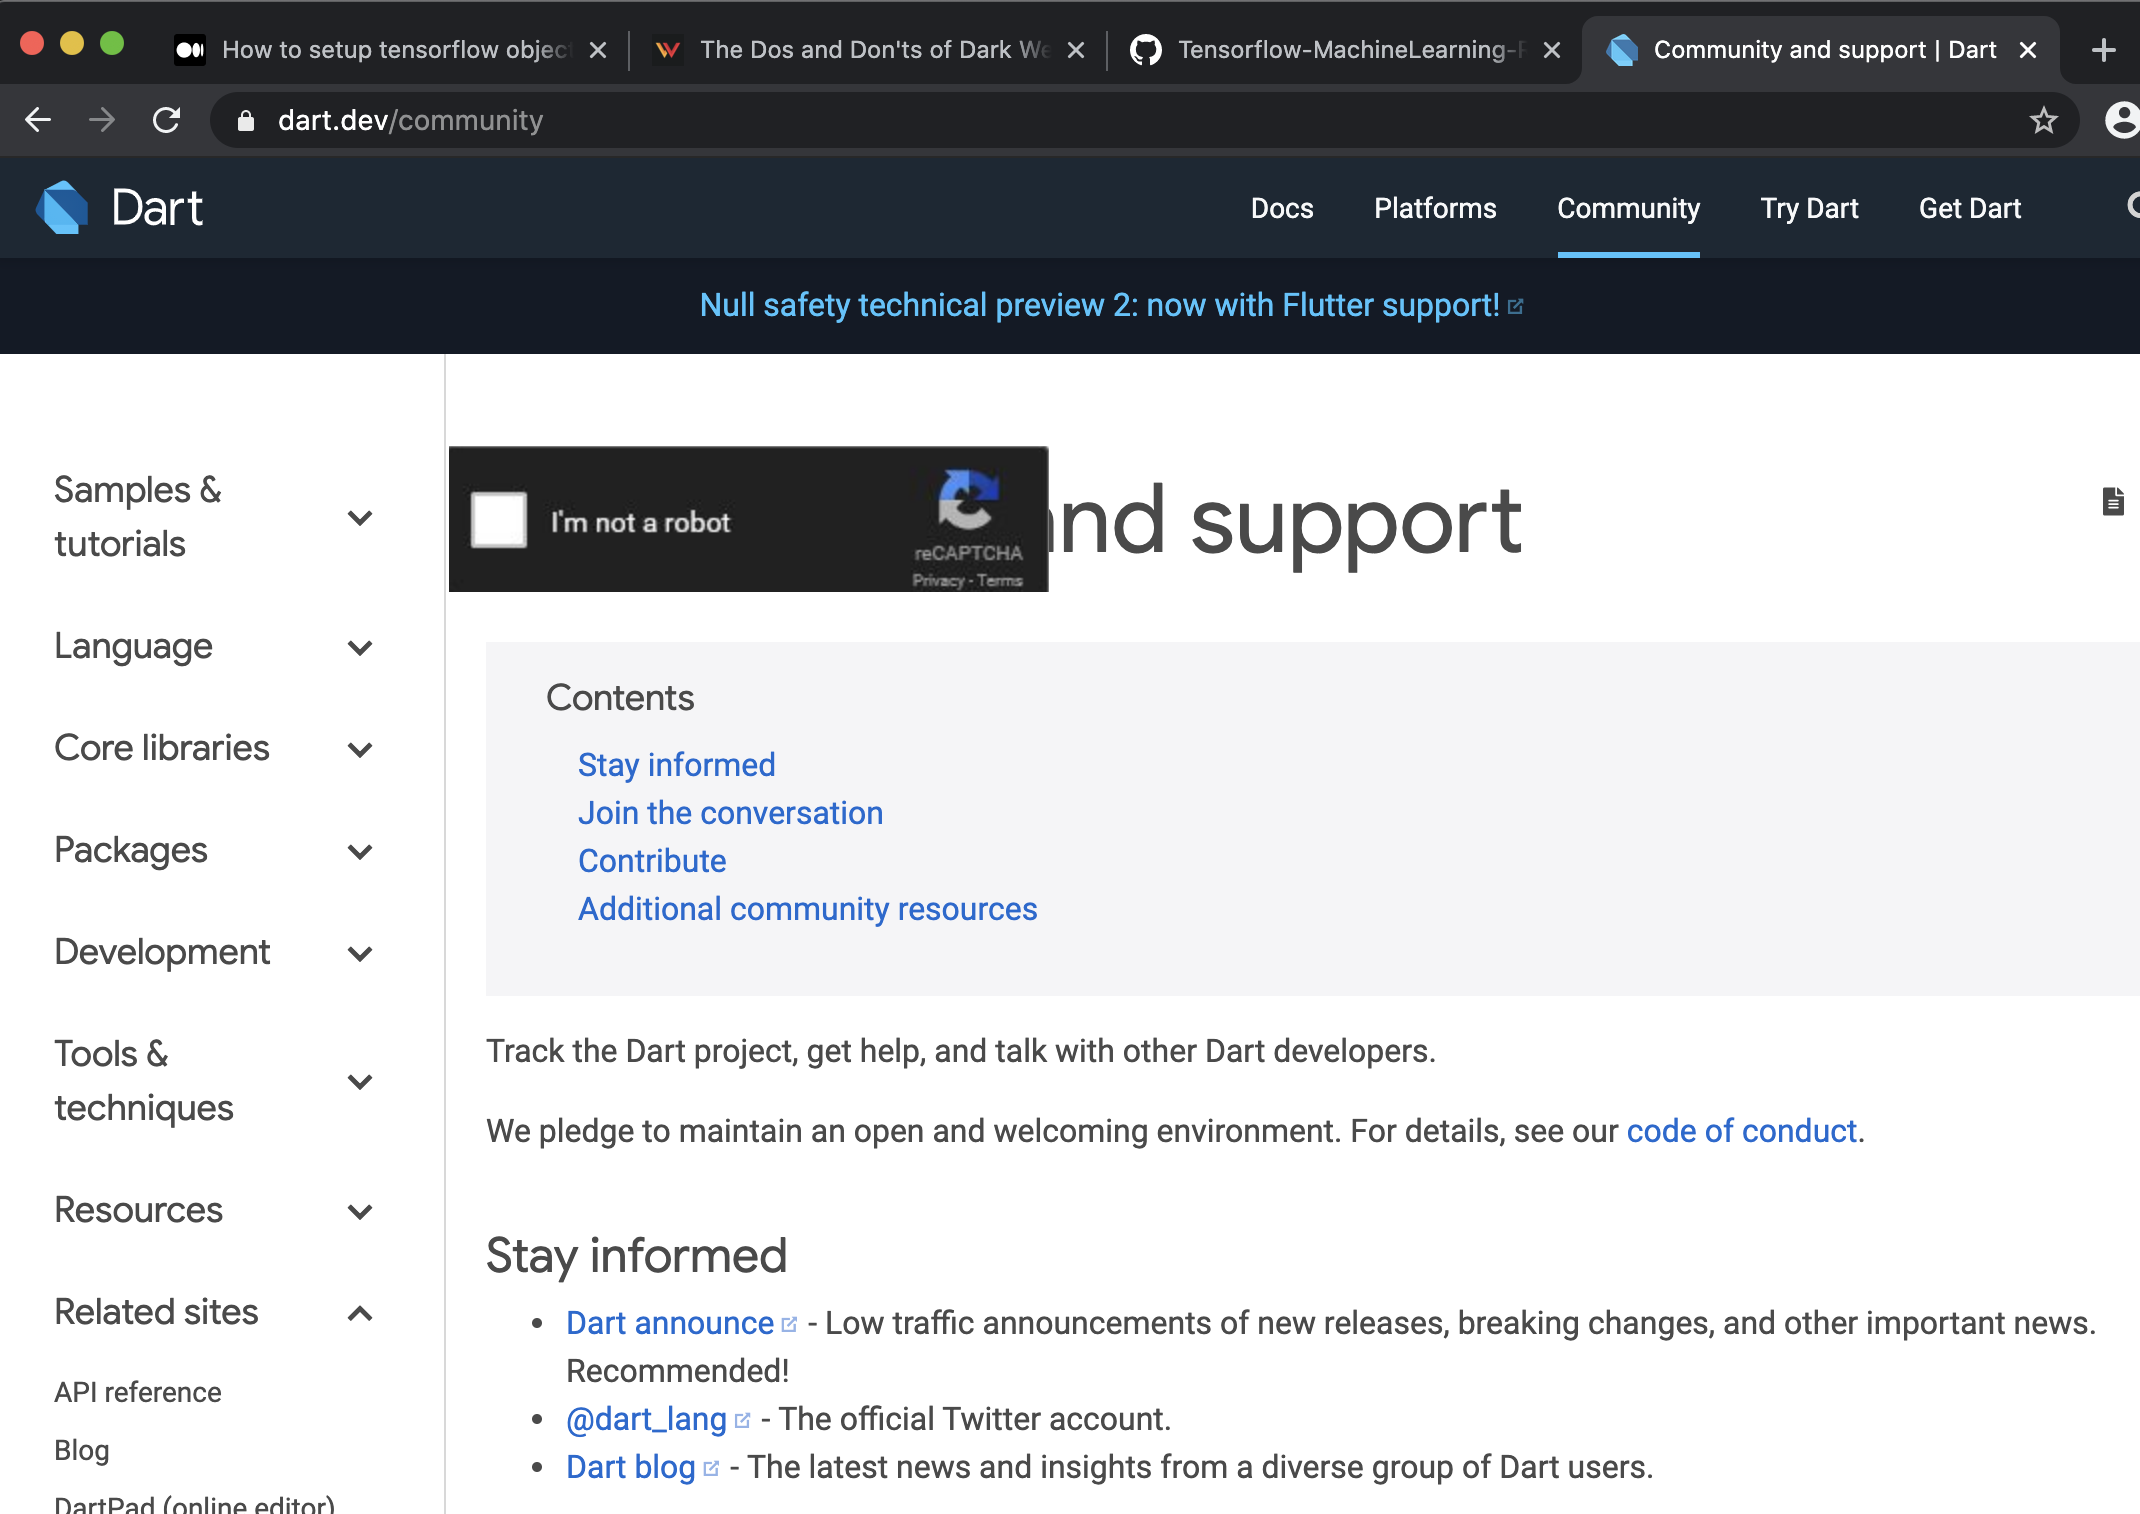captcha: (439, 434, 1070, 616)
